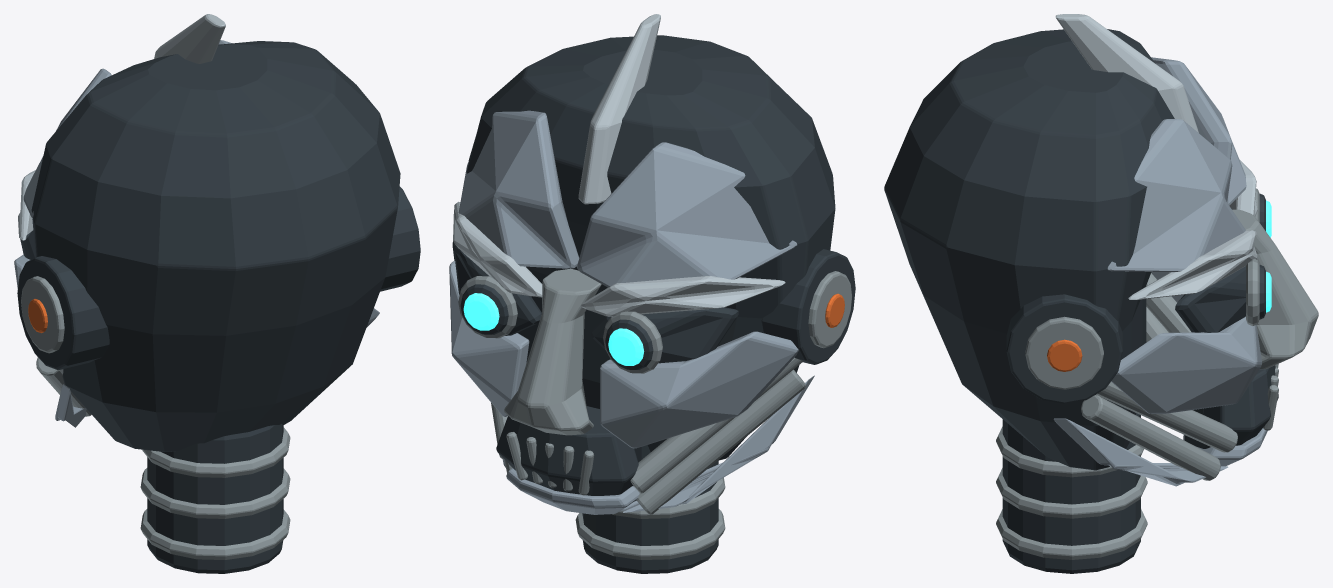
The picture shows the model from 3 angles, left to right: view 1: azimuth 30°, elevation 25°; view 2: azimuth 150°, elevation 25°; view 3: azimuth 270°, elevation 25°; orthographic projection.
Visible parts, largest first — view 1: Head_hero; view 2: Head_hero; view 3: Head_hero.
Boxes of the visible parts, left/top/right/bottom form: Head_hero: left=14, top=14, right=420, bottom=573; Head_hero: left=449, top=14, right=855, bottom=573; Head_hero: left=884, top=14, right=1318, bottom=573.
Bounding box in the file's own units: 0.4475 × 0.6166 × 0.4567.
